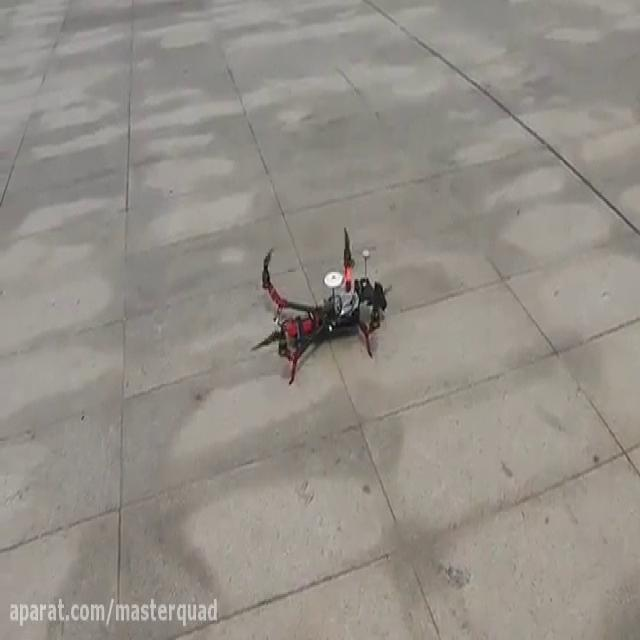drone: (247, 220, 395, 388)
